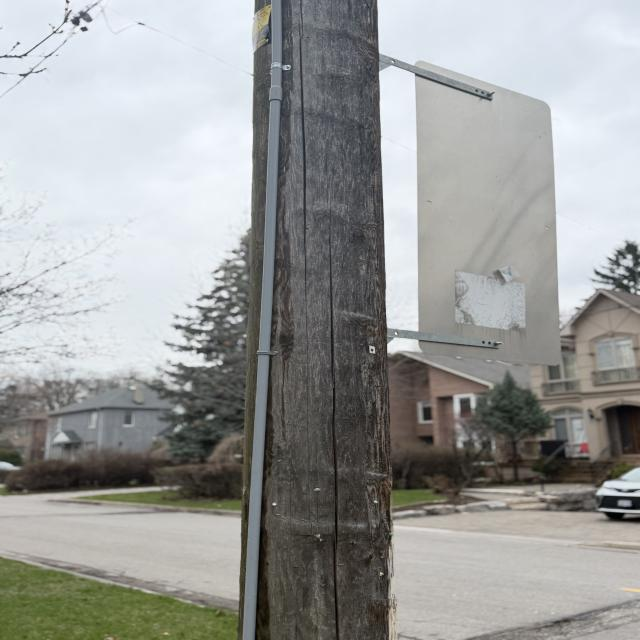Electrical Pole: (223, 0, 418, 640)
